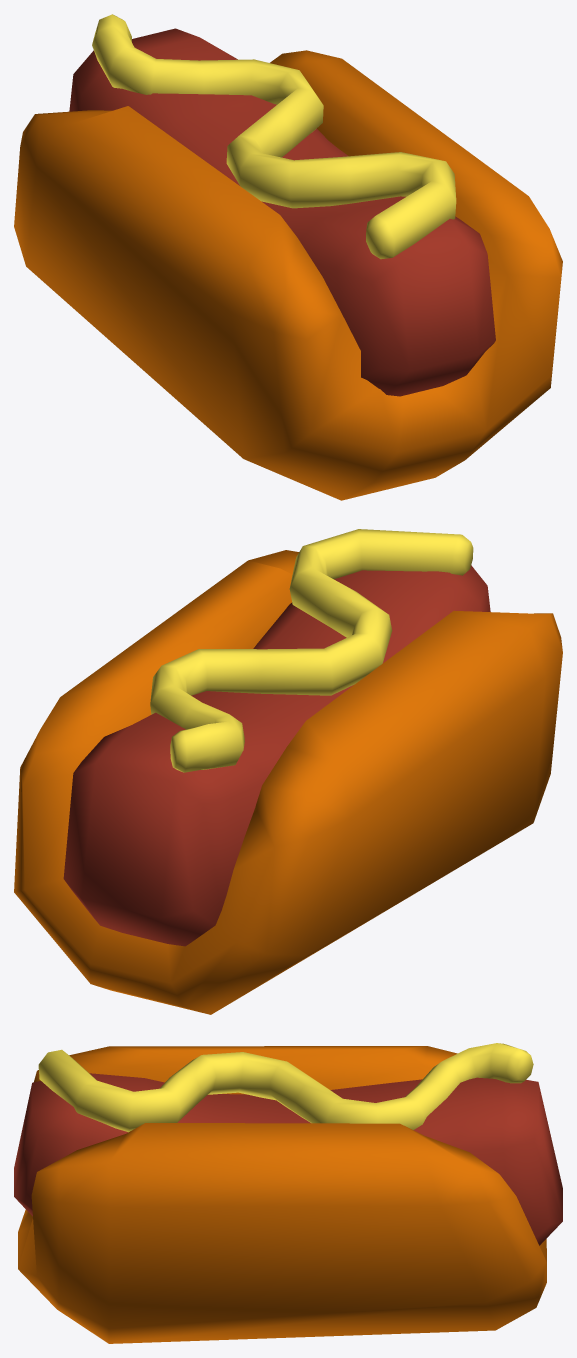
File: Hotdog.fbx
3 views of the same model, one above another, from view 1: azimuth 30°, elevation 25°; view 2: azimuth 150°, elevation 25°; view 3: azimuth 270°, elevation 25° (orthographic). The views are drawn at different scales.
Parts seen in each view (by area): view 1: Event_hotdog; view 2: Event_hotdog; view 3: Event_hotdog.
Part boxes in pixels (x1,y1,x2,y2): Event_hotdog: (14, 14, 562, 500); Event_hotdog: (14, 529, 562, 1014); Event_hotdog: (14, 1043, 562, 1343).
Size of the model in its own units: 35.64 by 33.36 by 63.41.
1 material, 1 textured.
